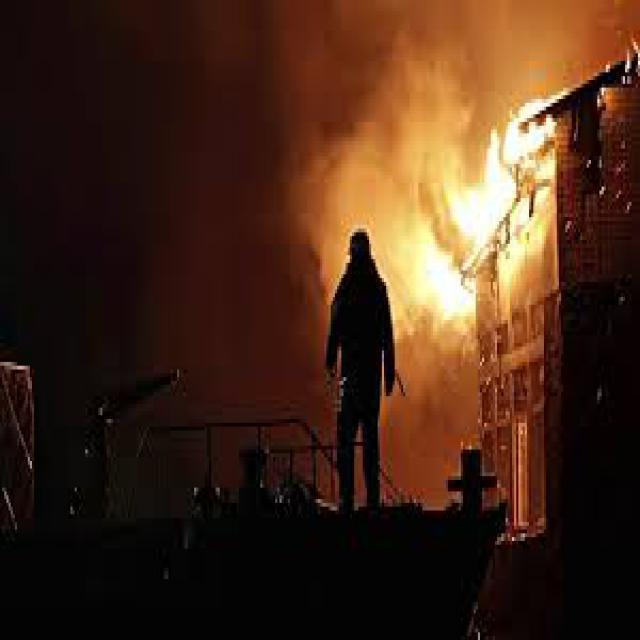Fire: (235, 24, 611, 499), (428, 58, 429, 77)
